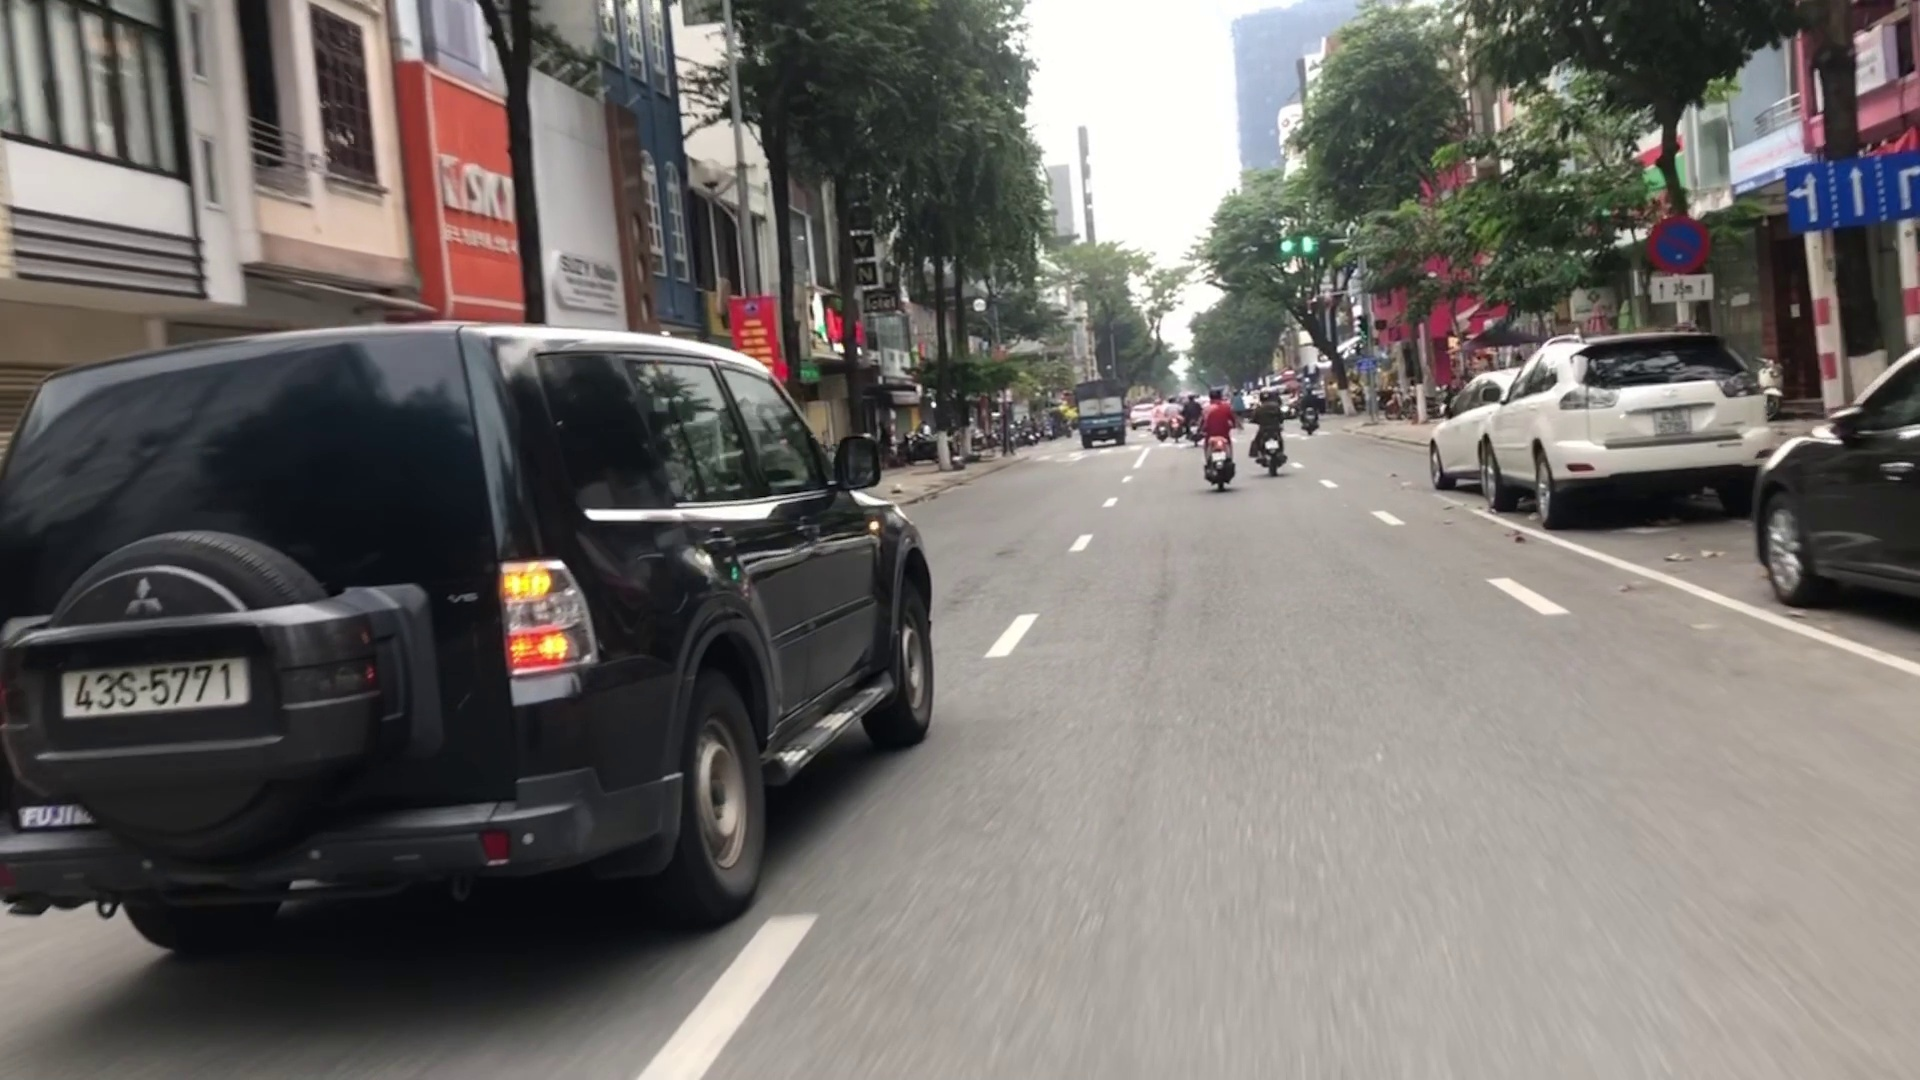Cam do xe: (1647, 208, 1710, 273)
